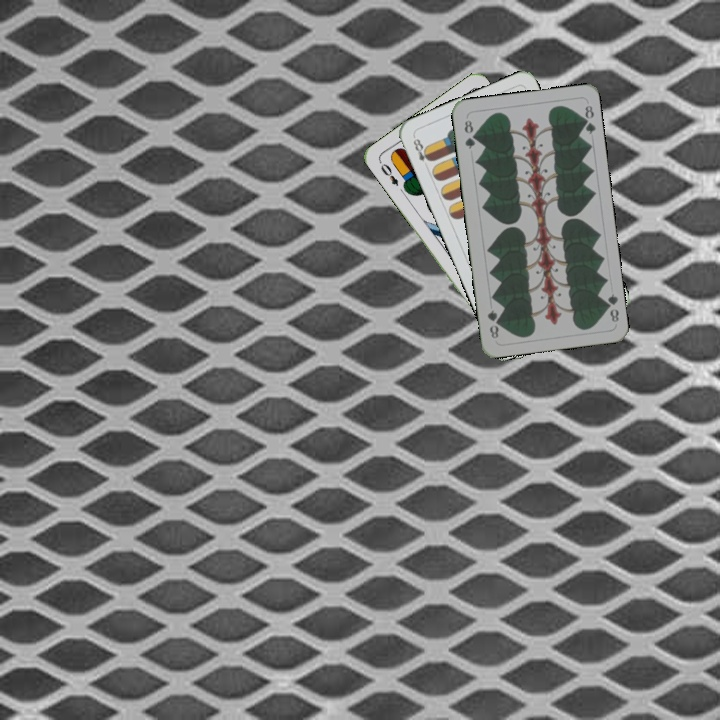E8: (409, 133, 434, 165)
EO: (377, 159, 401, 189)
G8: (600, 289, 621, 325), (460, 116, 478, 151)
